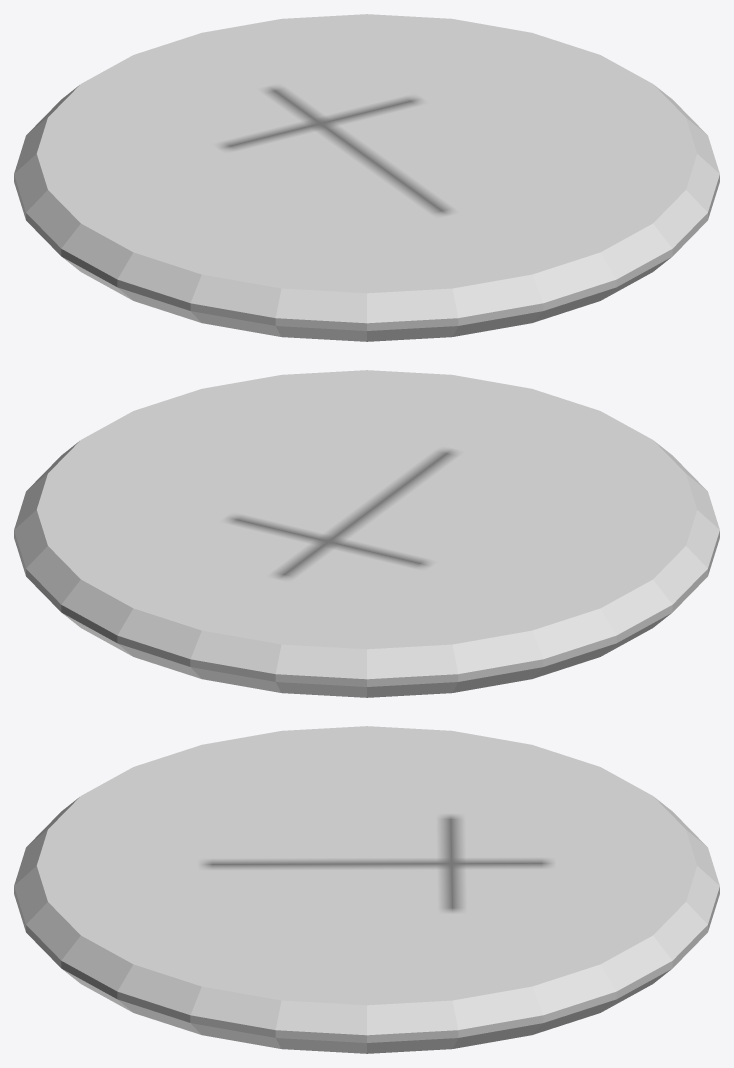
The model's file is SM_Ostia.fbx.
The picture shows the model from 3 angles, top to bottom: view 1: azimuth 30°, elevation 25°; view 2: azimuth 150°, elevation 25°; view 3: azimuth 270°, elevation 25°; orthographic projection.
Parts seen in each view (by area): view 1: Cylinder.001; view 2: Cylinder.001; view 3: Cylinder.001.
Part boxes in pixels (x1,y1,x2,y2): Cylinder.001: [14, 14, 719, 341]; Cylinder.001: [14, 370, 719, 697]; Cylinder.001: [14, 726, 719, 1053].
Bounding box in the file's own units: 65.95 × 5.01 × 65.95.
